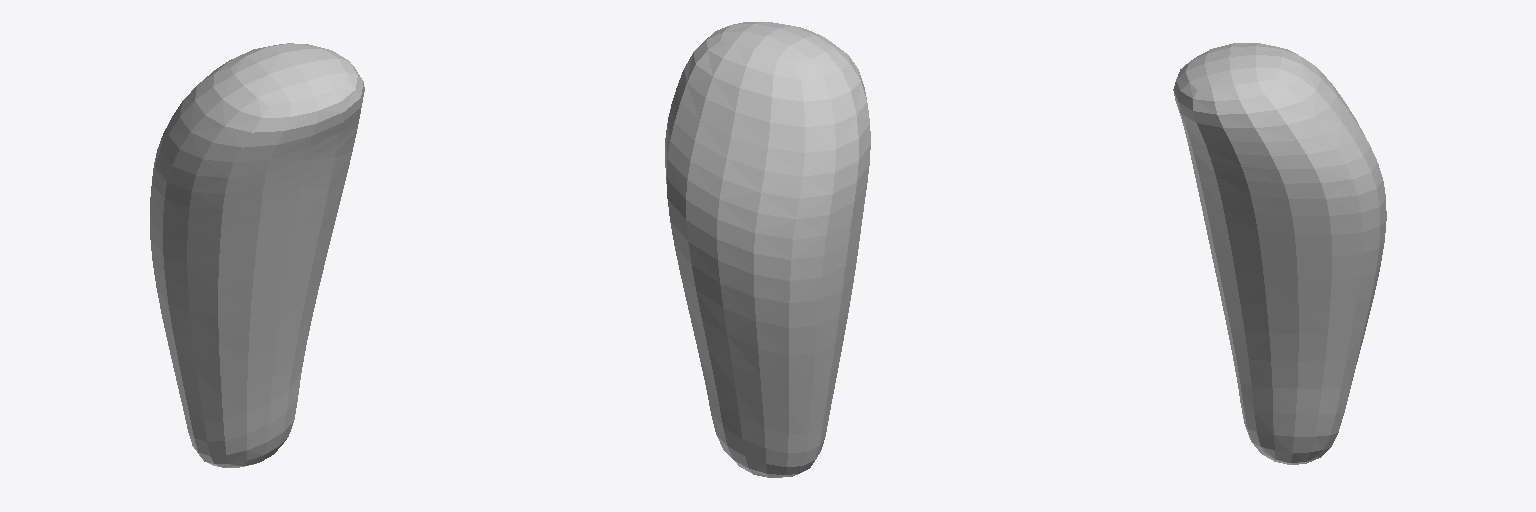
The model's file is m_rlleg.obj.
3 views of the same model, side by side, from view 1: azimuth 30°, elevation 25°; view 2: azimuth 150°, elevation 25°; view 3: azimuth 270°, elevation 25° (orthographic).
Visible parts, largest first — view 1: pCube9; view 2: pCube9; view 3: pCube9.
Part boxes in pixels (bbox=[...]): pCube9: bbox=[150, 43, 364, 467]; pCube9: bbox=[665, 22, 870, 477]; pCube9: bbox=[1173, 43, 1386, 464].
Size of the model in its own units: 0.6563 by 1.47 by 0.6819.